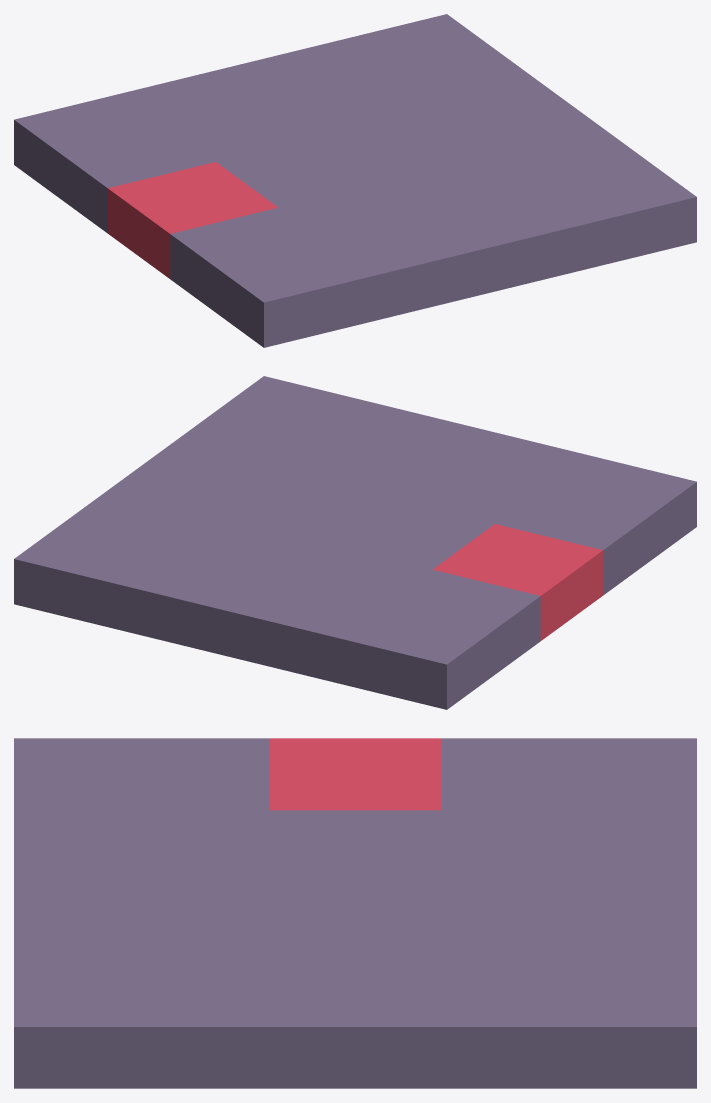
Rendered from platform2.fbx.
3 renders of one model, top to bottom at view 1: azimuth 30°, elevation 25°; view 2: azimuth 150°, elevation 25°; view 3: azimuth 270°, elevation 25°, orthographic. The views are drawn at different scales.
Visible parts, largest first — view 1: Cube.001; view 2: Cube.001; view 3: Cube.001.
Part boxes in pixels (x1=…): Cube.001: x1=14, y1=14, x2=696, y2=347; Cube.001: x1=14, y1=376, x2=696, y2=709; Cube.001: x1=14, y1=738, x2=696, y2=1088.
Bounding box in the file's own units: 200 × 20 × 200.
